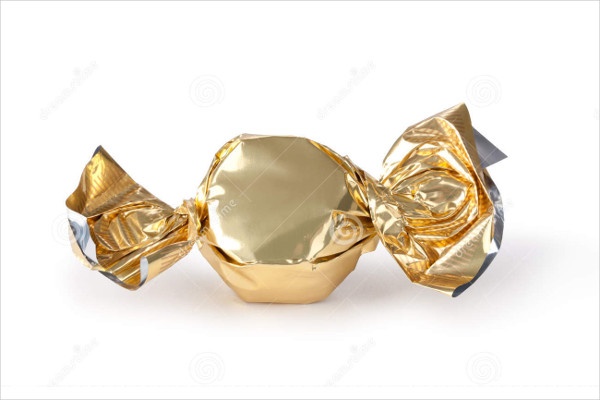Nonrec_Plastic: (19, 104, 531, 309)
